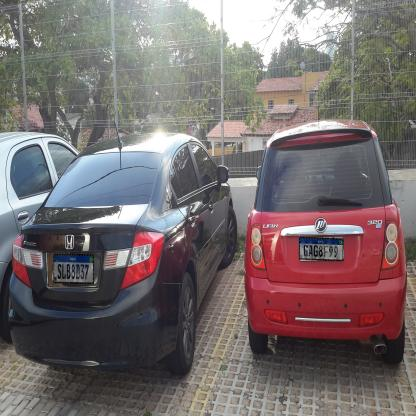PlacaM: (53, 254, 94, 284), (299, 237, 343, 261)
